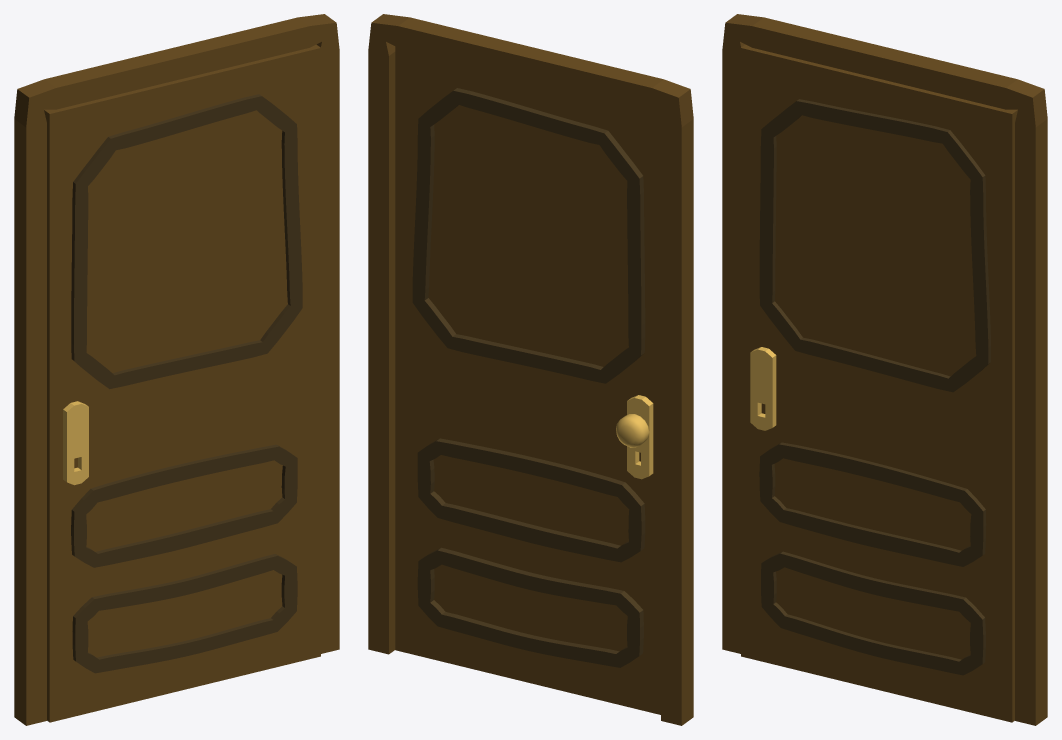
The model's file is Door 2.glb.
3 renders of one model, left to right at view 1: azimuth 30°, elevation 25°; view 2: azimuth 150°, elevation 25°; view 3: azimuth 330°, elevation 25°, orthographic.
Visible parts, largest first — view 1: Door, Door Cusain, Door Decor, Key; view 2: Door, Door Cusain, Door Decor, Key, Knob; view 3: Door, Door Cusain, Door Decor, Key.
Part boxes in pixels (x1,y1,x2,y2): Door: (44, 44, 320, 722); Door Cusain: (14, 14, 339, 725); Door Decor: (71, 94, 302, 673); Key: (63, 401, 88, 485); Door: (395, 46, 663, 714); Door Cusain: (368, 14, 693, 725); Door Decor: (412, 88, 645, 667); Key: (627, 395, 653, 479); Knob: (616, 414, 649, 447); Door: (741, 44, 1017, 722); Door Cusain: (722, 14, 1047, 725); Door Decor: (759, 99, 990, 675); Key: (750, 347, 776, 430).
Bounding box in the file's own units: 1.14 × 2.2 × 0.1746.
